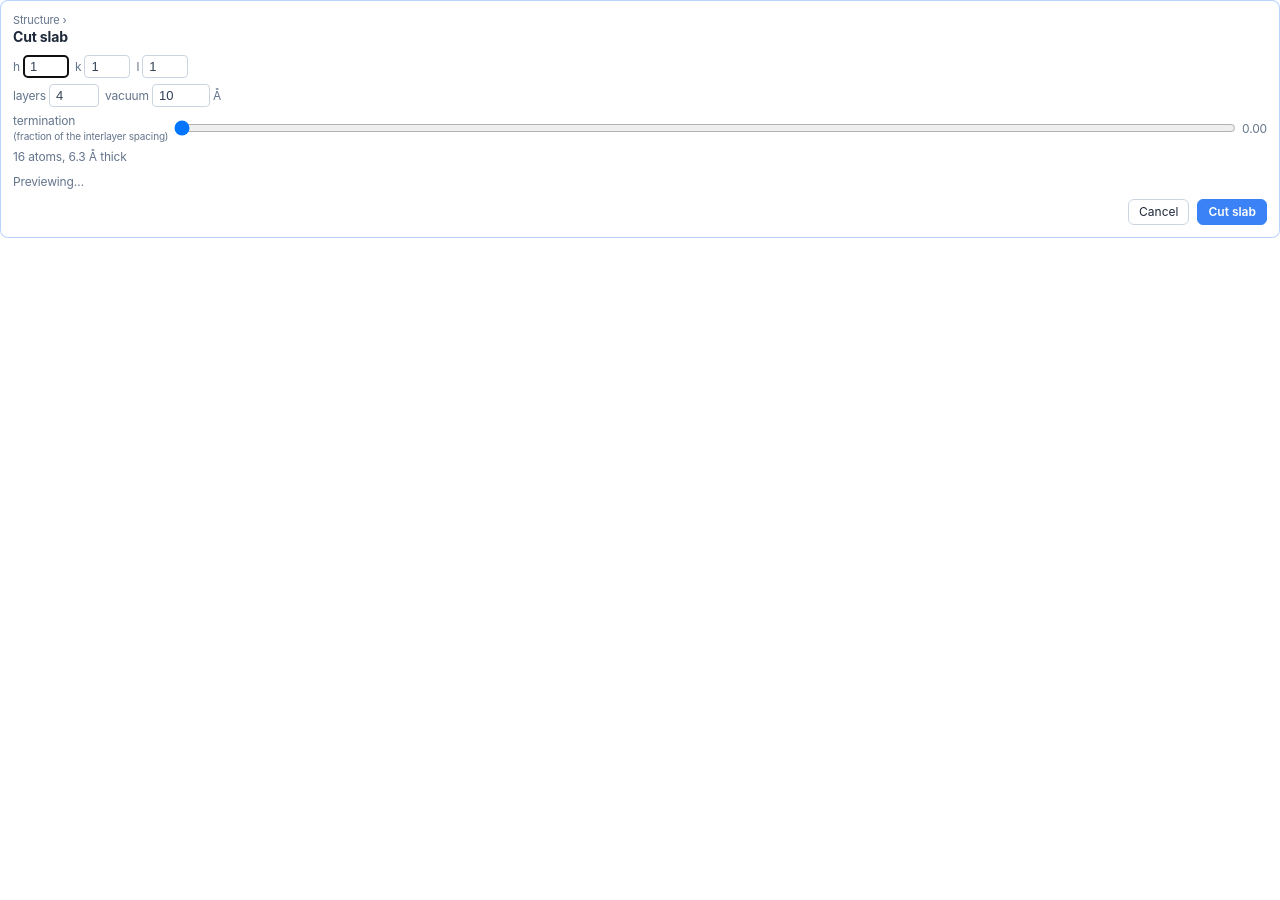
Scenario: CrystalDialog — slab › says what is wrong with the fields
Replace the text in the field with test id "builder-slab-layers" with "0" at (74, 96), box x1=49 y1=84 x2=99 y2=107
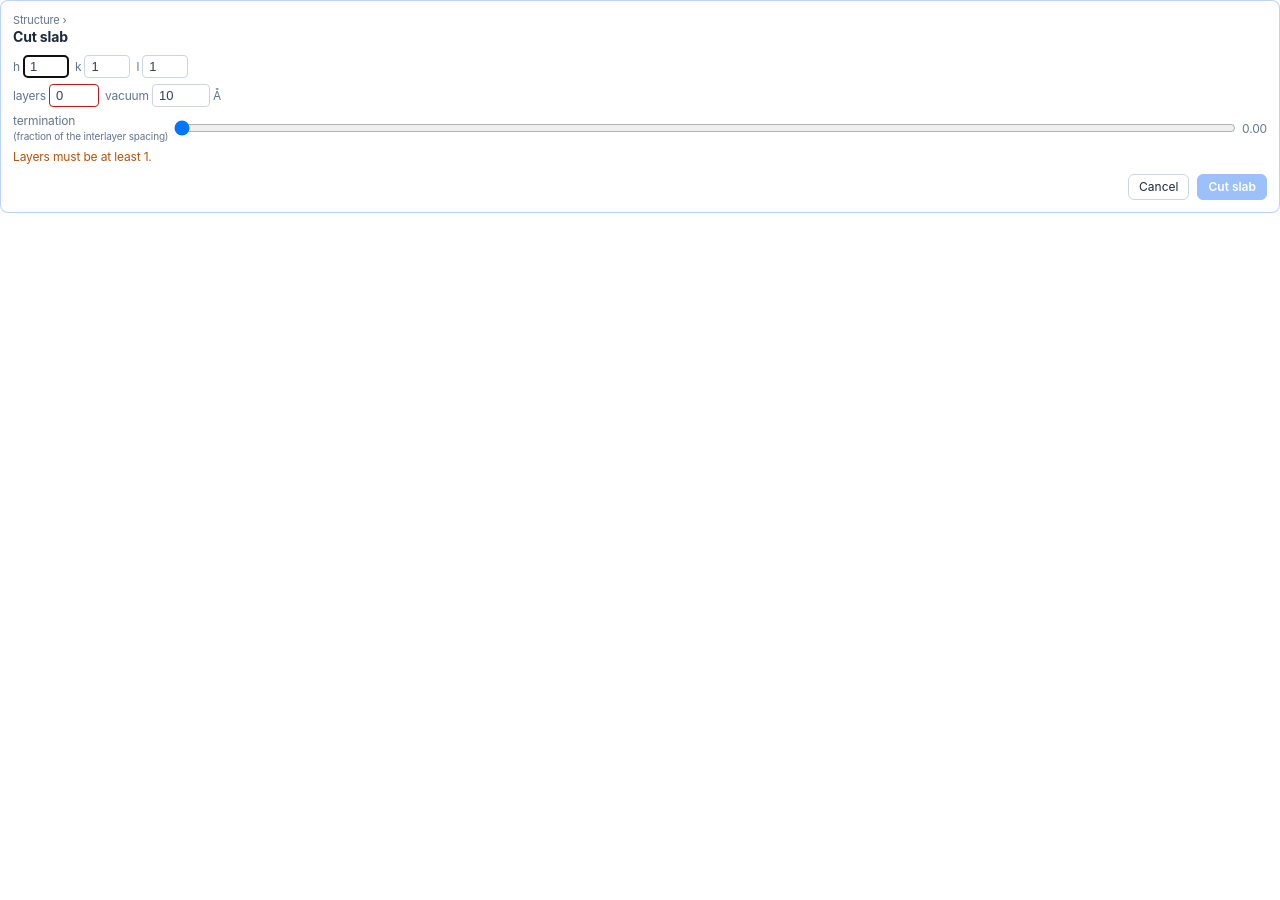
Expected: the message with test id "builder-slab-preview" reads "Layers must be at least 1.", x1=13 y1=149 x2=152 y2=164
Expected: the button with test id "builder-slab-apply" is disabled, x1=1197 y1=174 x2=1267 y2=200
Replace the text in the field with test id "builder-slab-layers" with "2.5" at (74, 96), box x1=49 y1=84 x2=99 y2=107
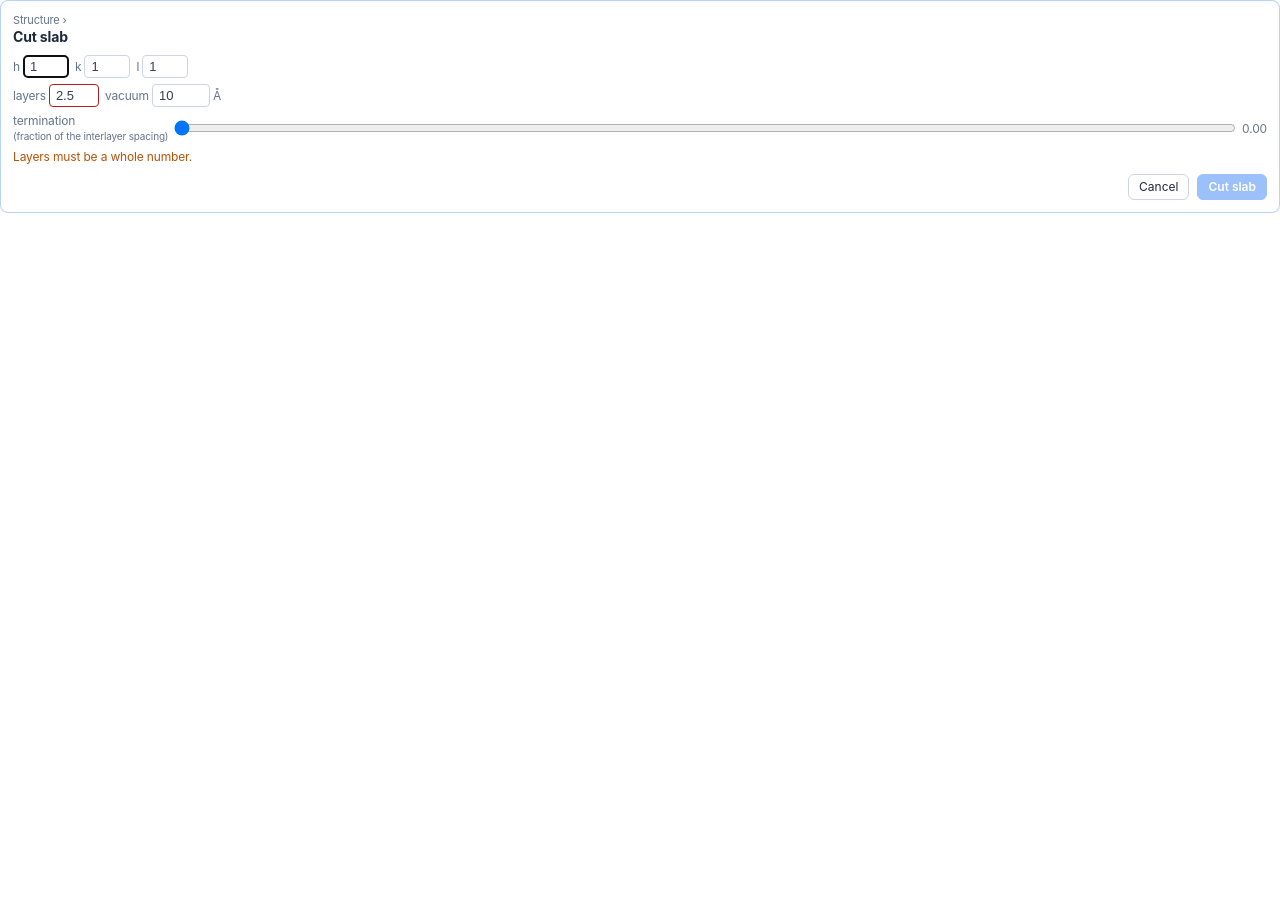
Expected: the message with test id "builder-slab-preview" reads "Layers must be a whole number.", x1=13 y1=149 x2=192 y2=164
Replace the text in the field with test id "builder-slab-layers" with "2" at (74, 96), box x1=49 y1=84 x2=99 y2=107
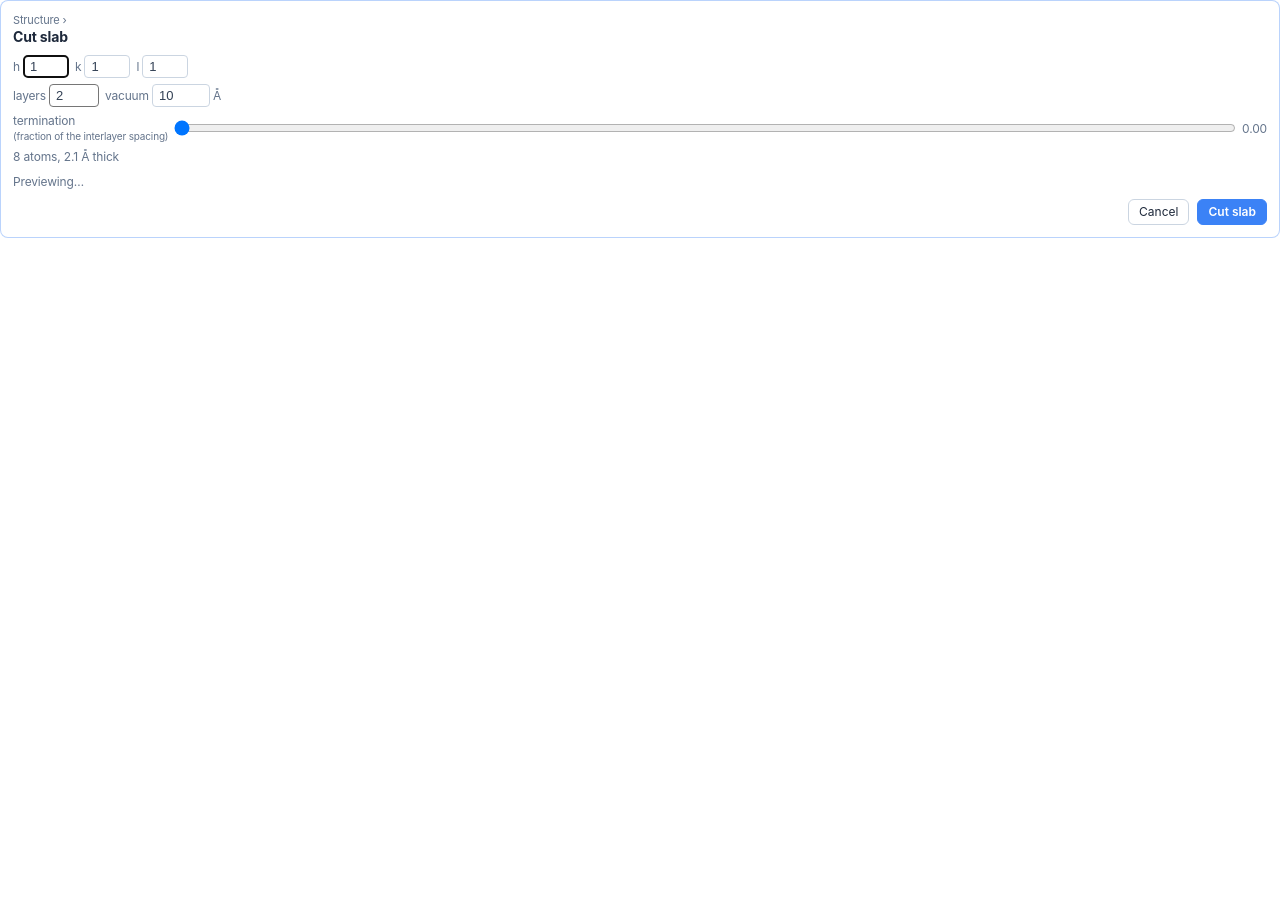
Replace the text in the field with test id "builder-slab-vacuum" with "-1" at (181, 96), box x1=152 y1=84 x2=210 y2=107
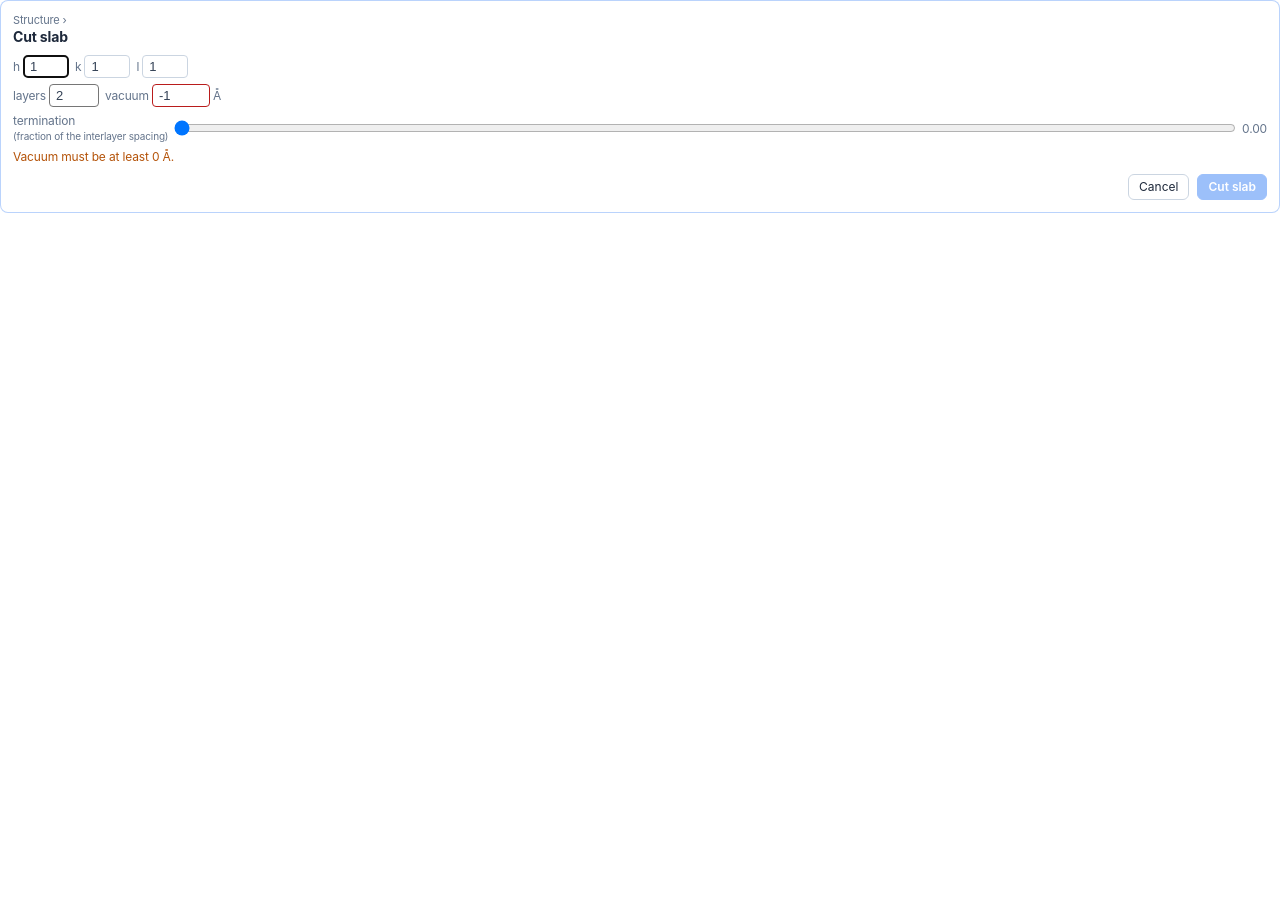
Expected: the message with test id "builder-slab-preview" reads "Vacuum must be at least 0 Å.", x1=13 y1=149 x2=174 y2=164
Clear the field with test id "builder-slab-vacuum" at (181, 96), box x1=152 y1=84 x2=210 y2=107
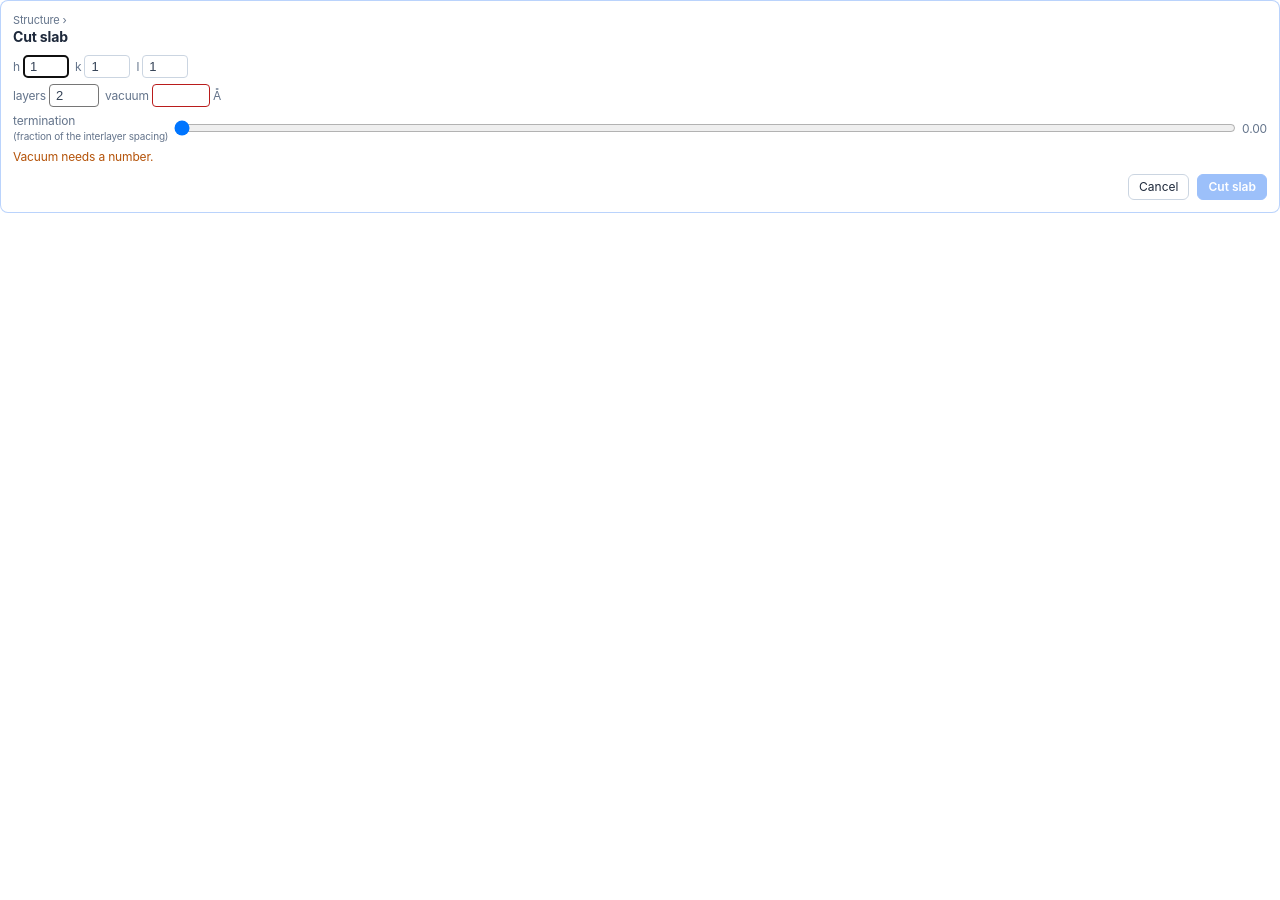
Expected: the element with test id "builder-slab" shows "fraction of the interlayer spacing", x1=13 y1=130 x2=168 y2=142
Expected: the message with test id "builder-slab-preview" reads "Vacuum needs a number.", x1=13 y1=149 x2=153 y2=164
